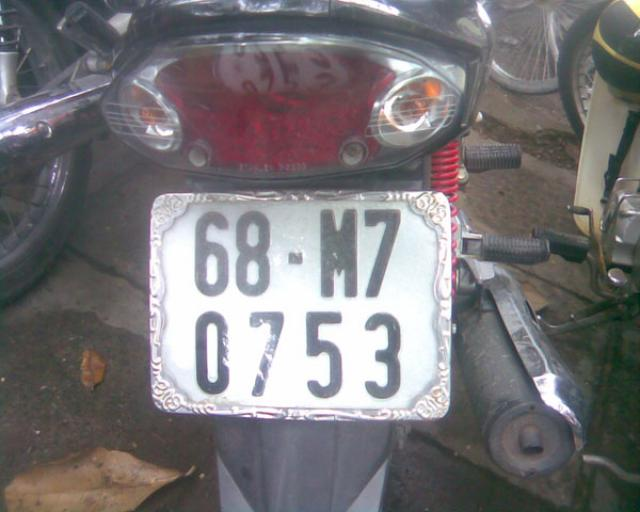plate: (150, 192, 448, 418)
